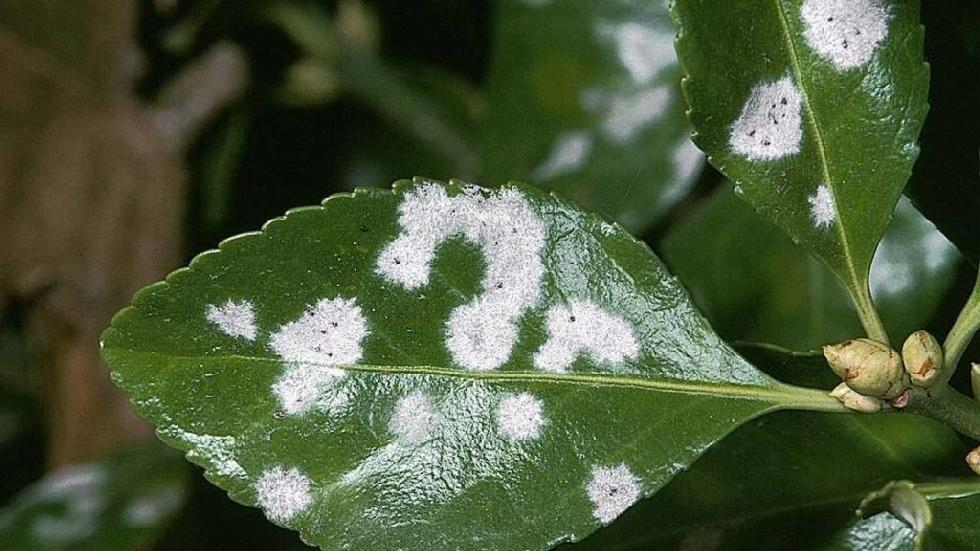pseudococcidae: (112, 189, 781, 549), (683, 7, 938, 288)
